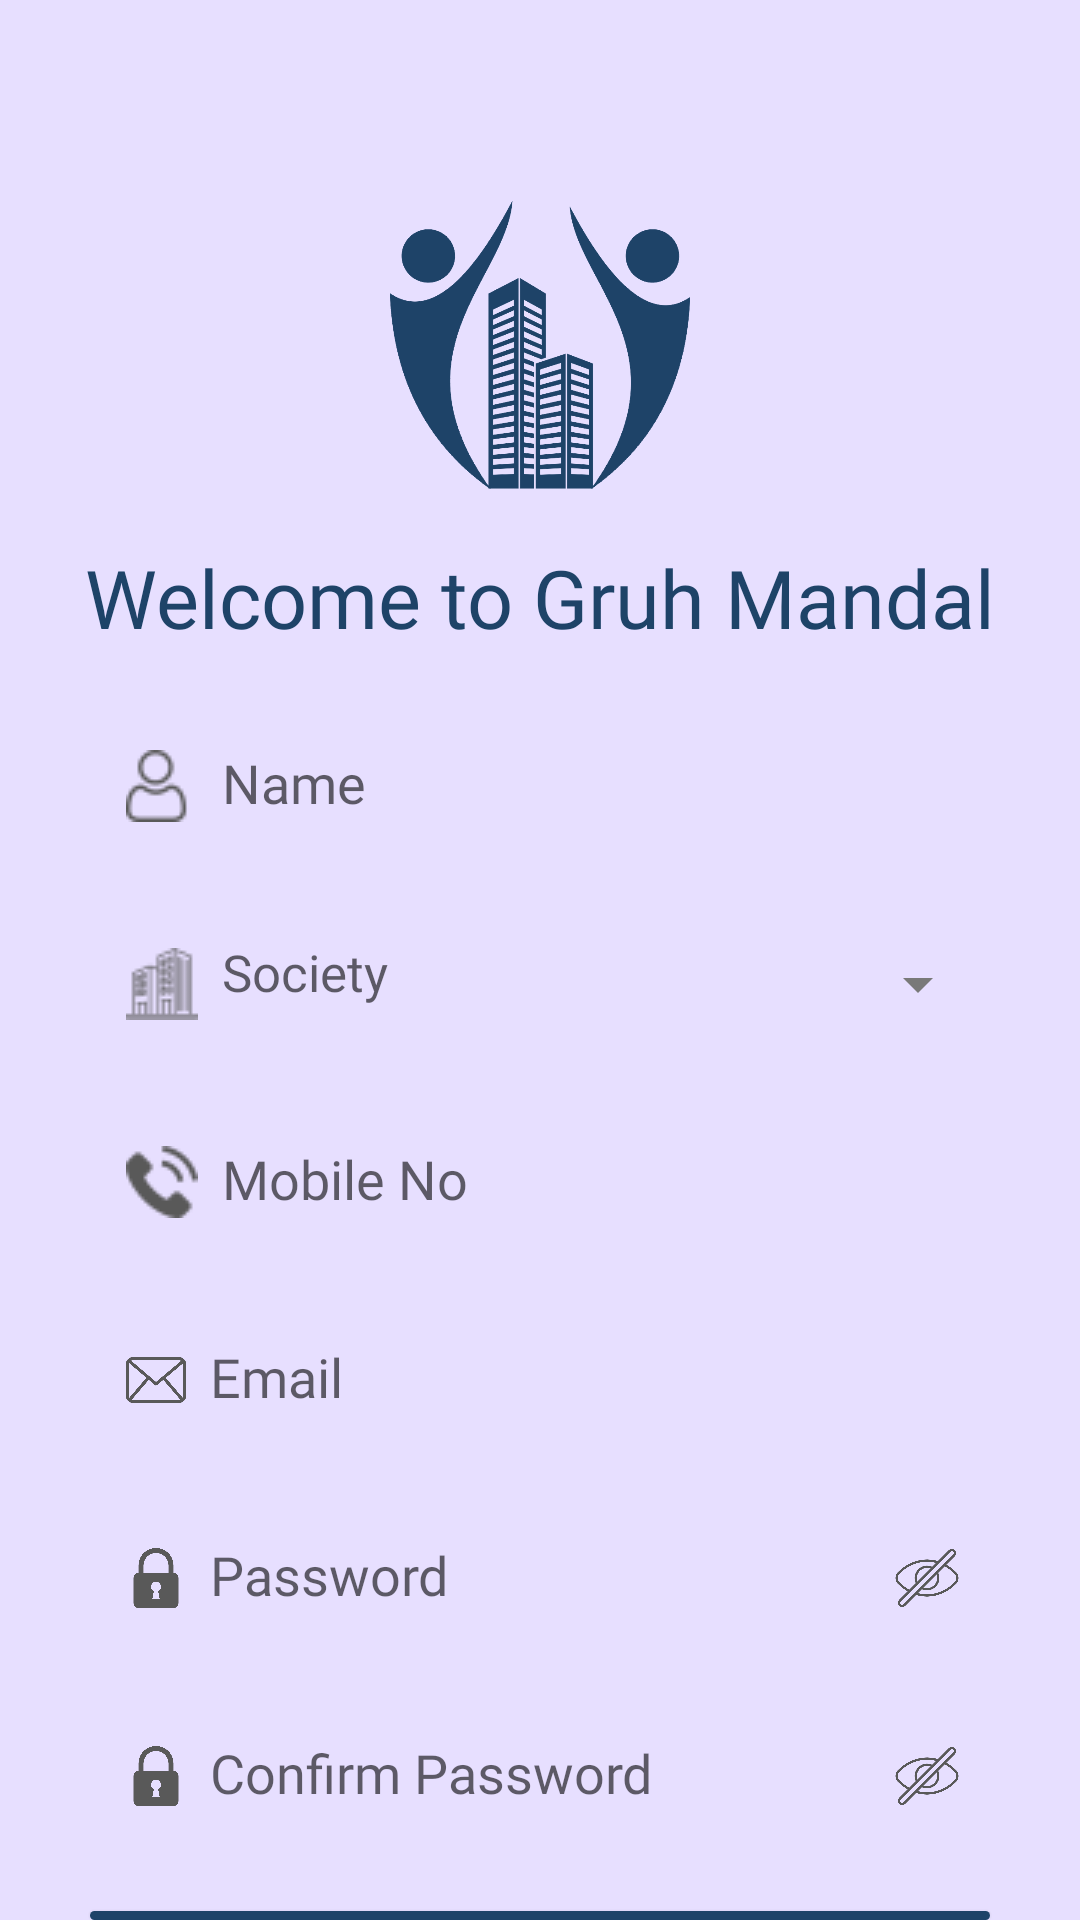

Named icons in this screenshot (1080px x 1920px) and their centers, point (x, y):
hiding: point (927, 1578), point (927, 1776)
